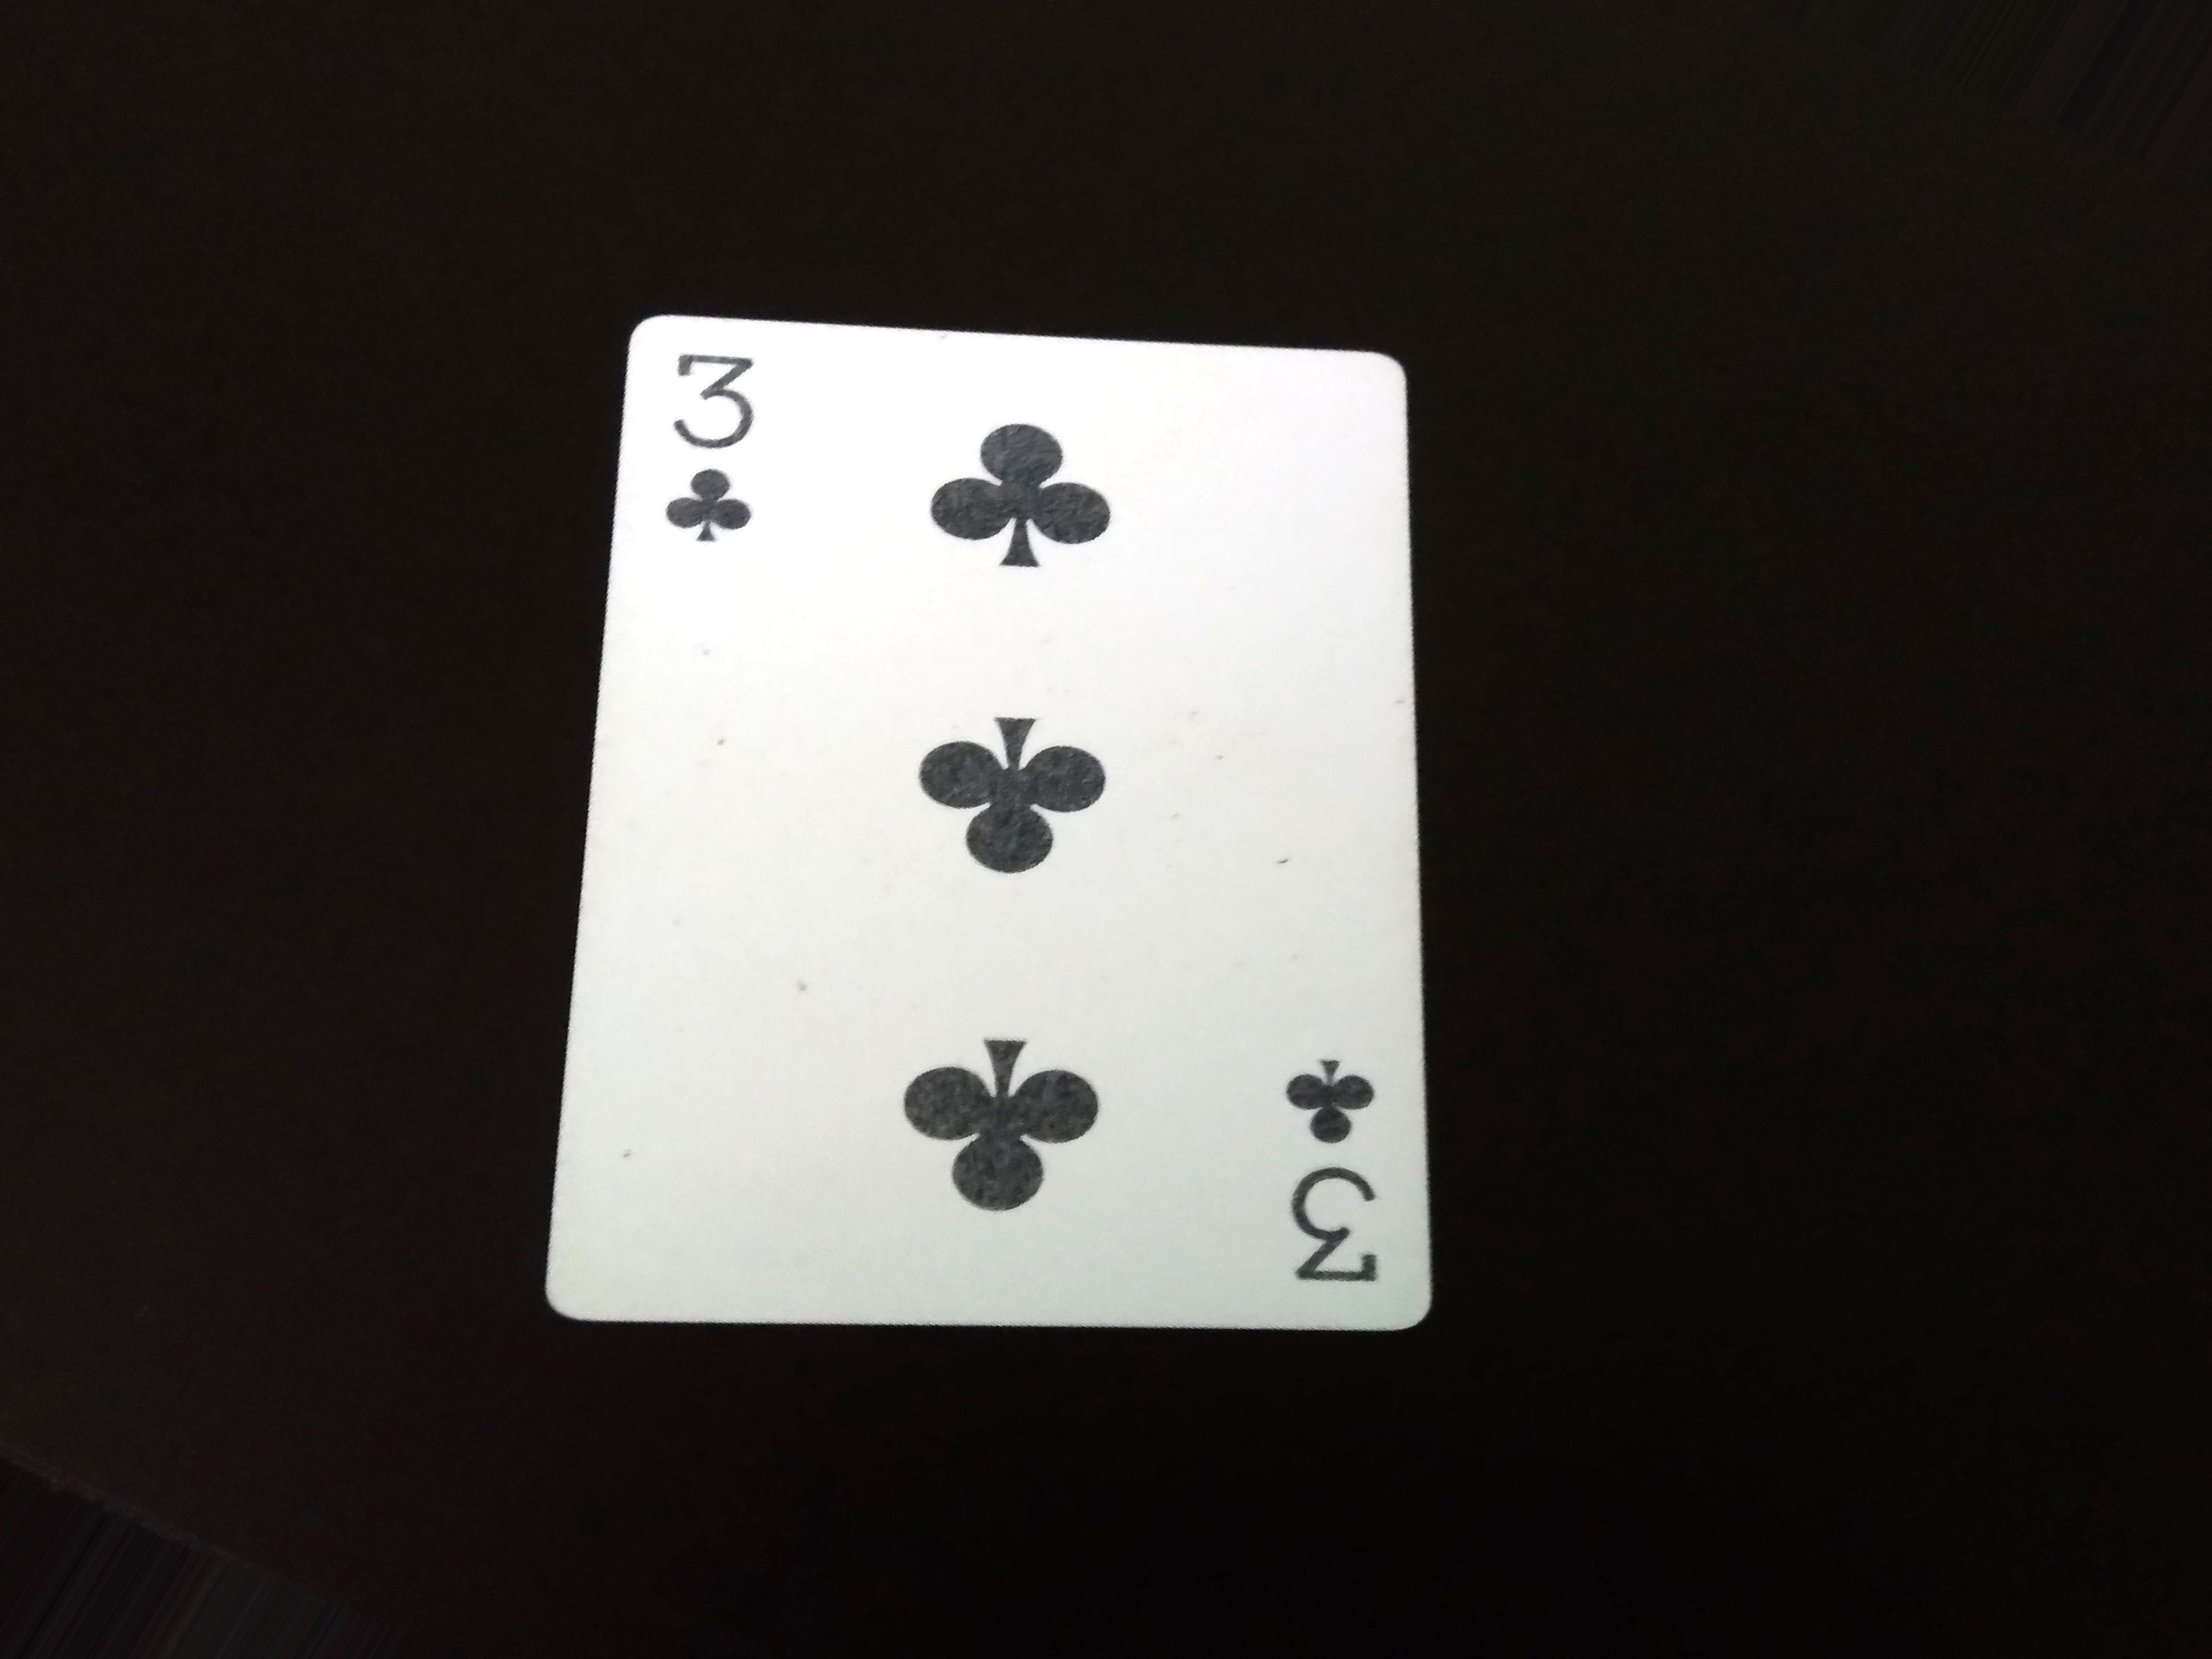3C: (1235, 1042, 1420, 1281)
